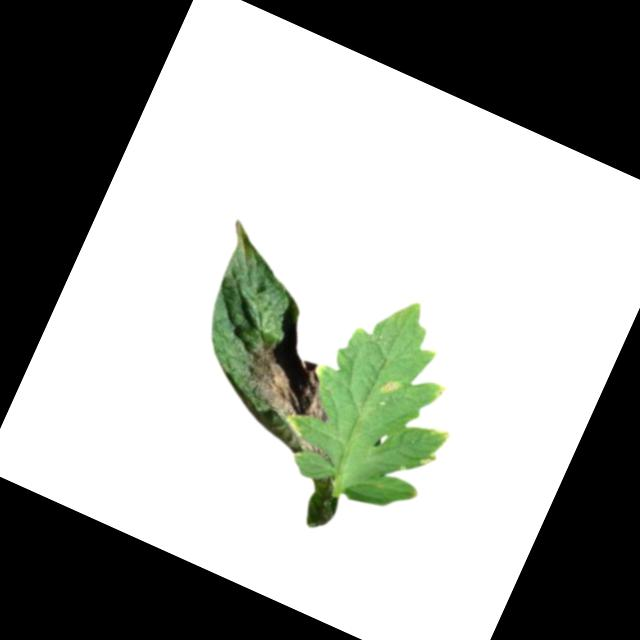Late_blight: (224, 335, 351, 455), (417, 446, 439, 469), (379, 374, 401, 396), (432, 425, 454, 444), (432, 382, 450, 400)
